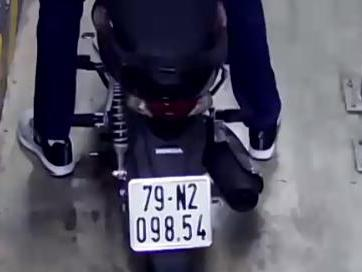num_plate: (126, 176, 217, 251)
